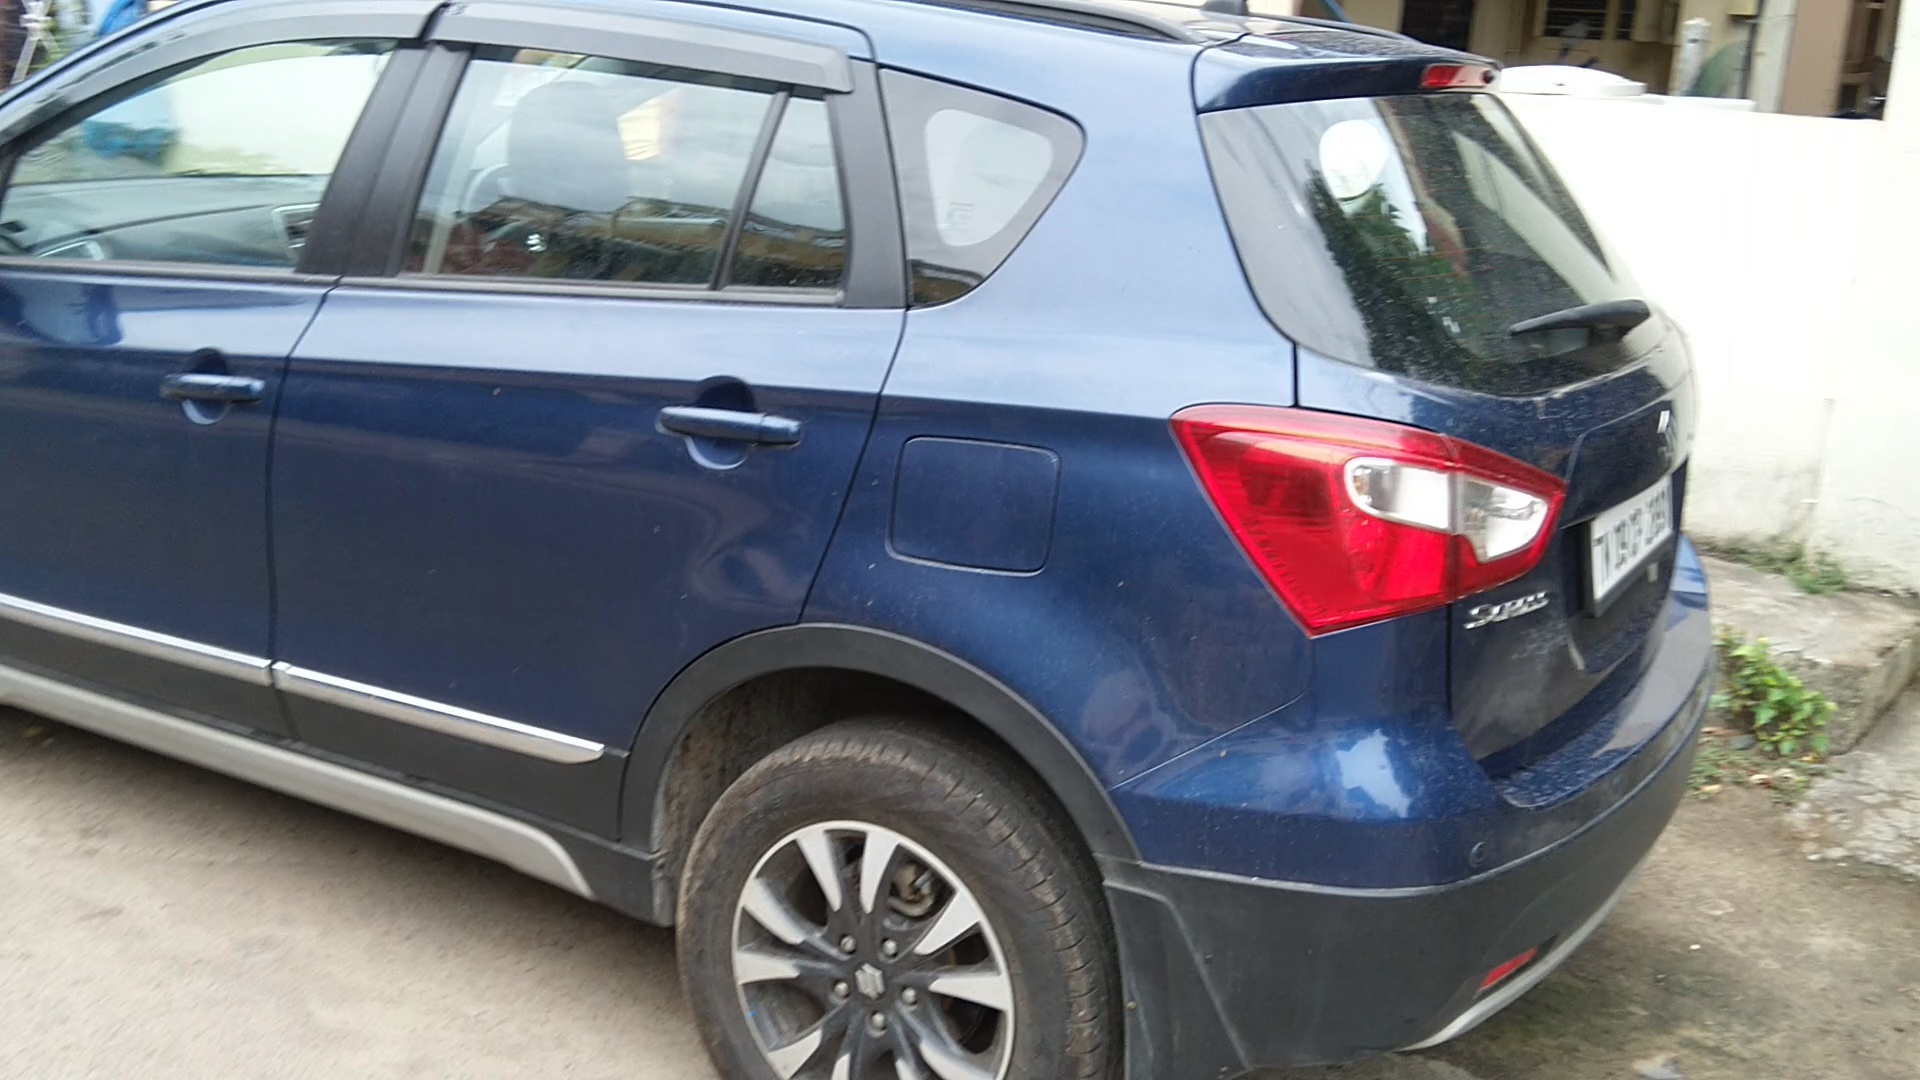alloy_wheel: (684, 746, 1095, 1080)
